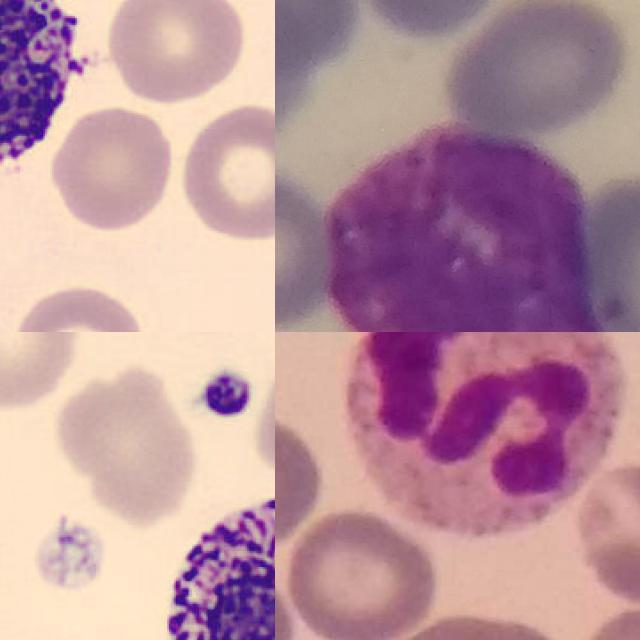Basophil: (324, 127, 602, 332), (0, 0, 108, 197), (168, 468, 275, 640)
Neutrophil: (349, 332, 620, 535)
Platelets: (30, 514, 110, 594), (196, 365, 258, 423)
RBC: (53, 355, 201, 530), (45, 103, 178, 235), (99, 0, 249, 106), (173, 97, 274, 247), (5, 279, 151, 332), (0, 332, 85, 412), (249, 346, 275, 477)
